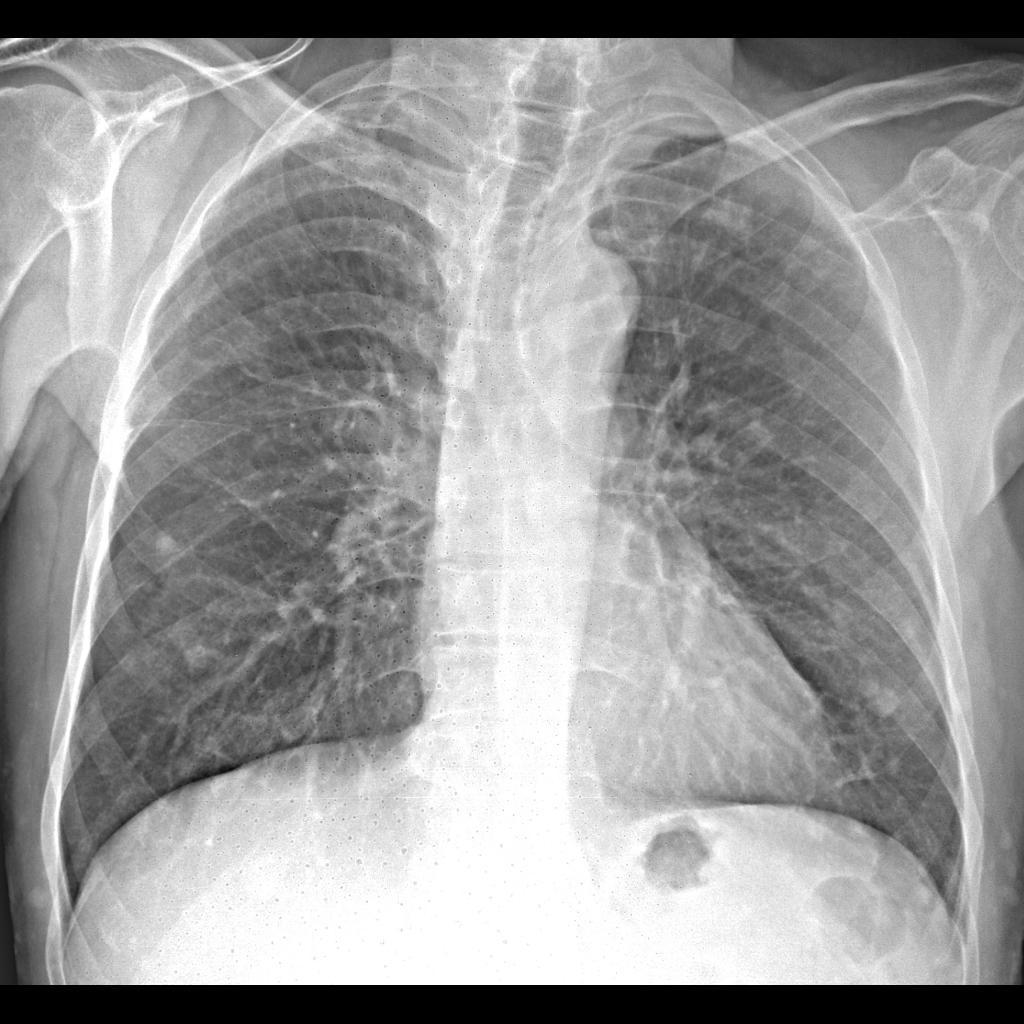Nodule: (142, 520, 196, 570)
